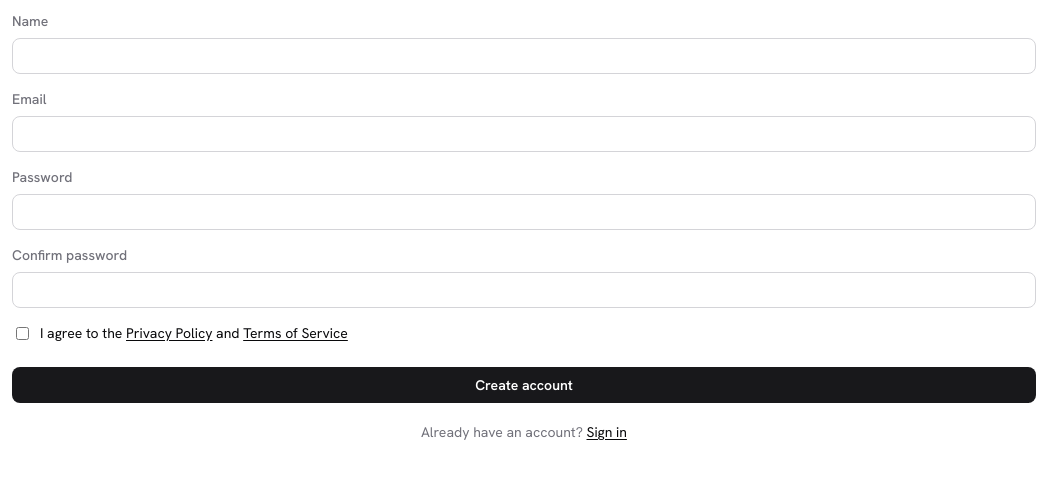
Scenario: the sign-up form › will not send the sign-up until the terms are accepted, and says why
Type "Ada Lovelace" into the field labelled "Name" at (524, 56), box [12,38,1036,74]
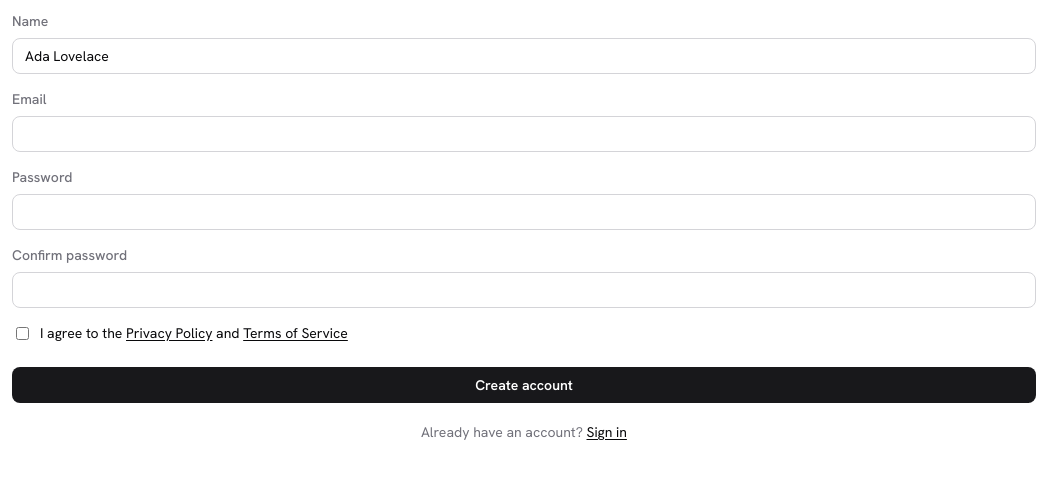
Type "ada@sovereign.local" into the field labelled "Email" at (524, 134), box [12,116,1036,152]
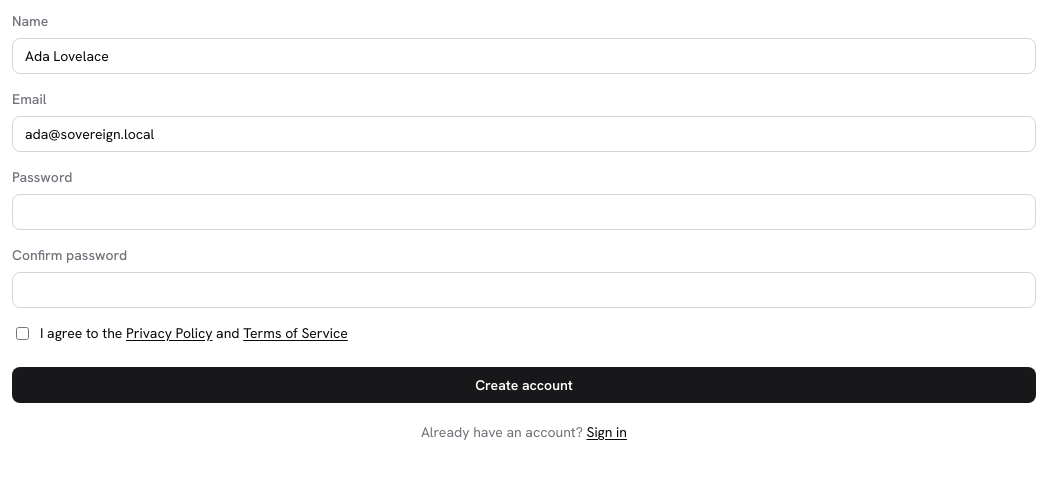
Type "correct horse battery" into the password field labelled "Password" at (524, 212), box [12,194,1036,230]
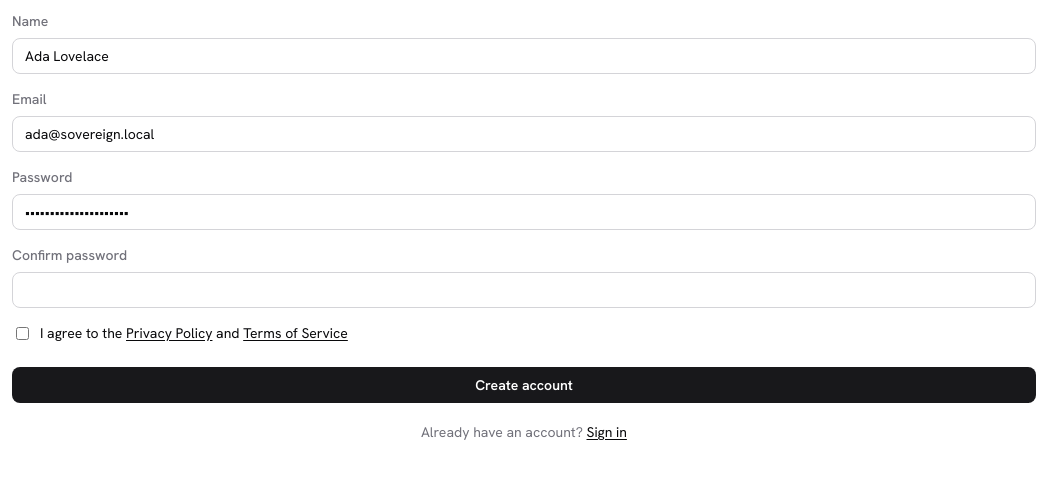
Type "correct horse battery" into the password field labelled "Confirm password" at (524, 290), box [12,272,1036,308]
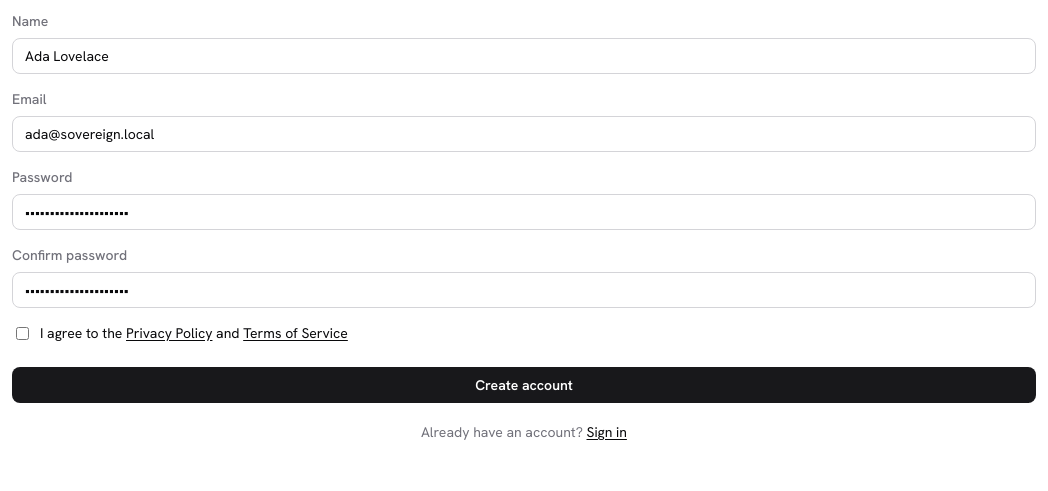
Click the button "Create account" at (524, 385), box [12,367,1036,403]
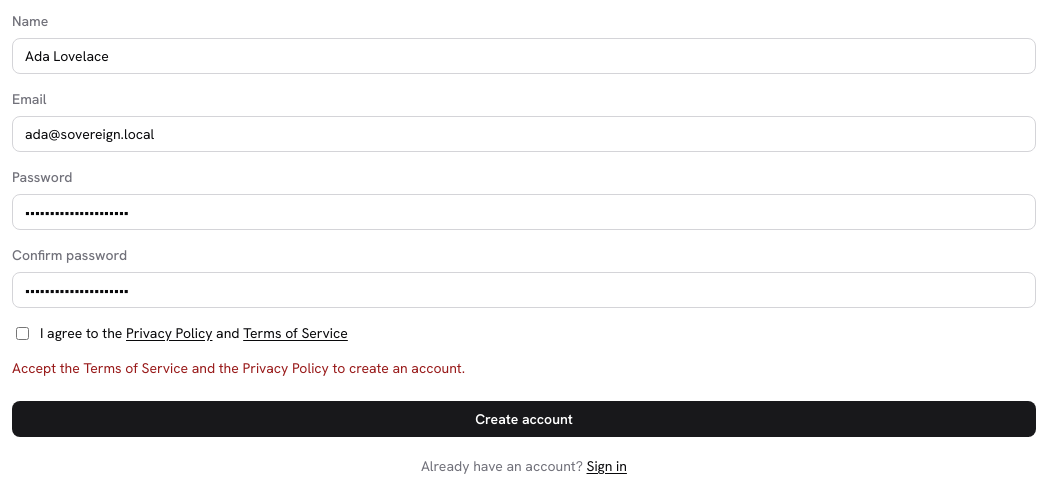
Expected: the message shows "Accept the Terms of Service", [12,359,465,377]
